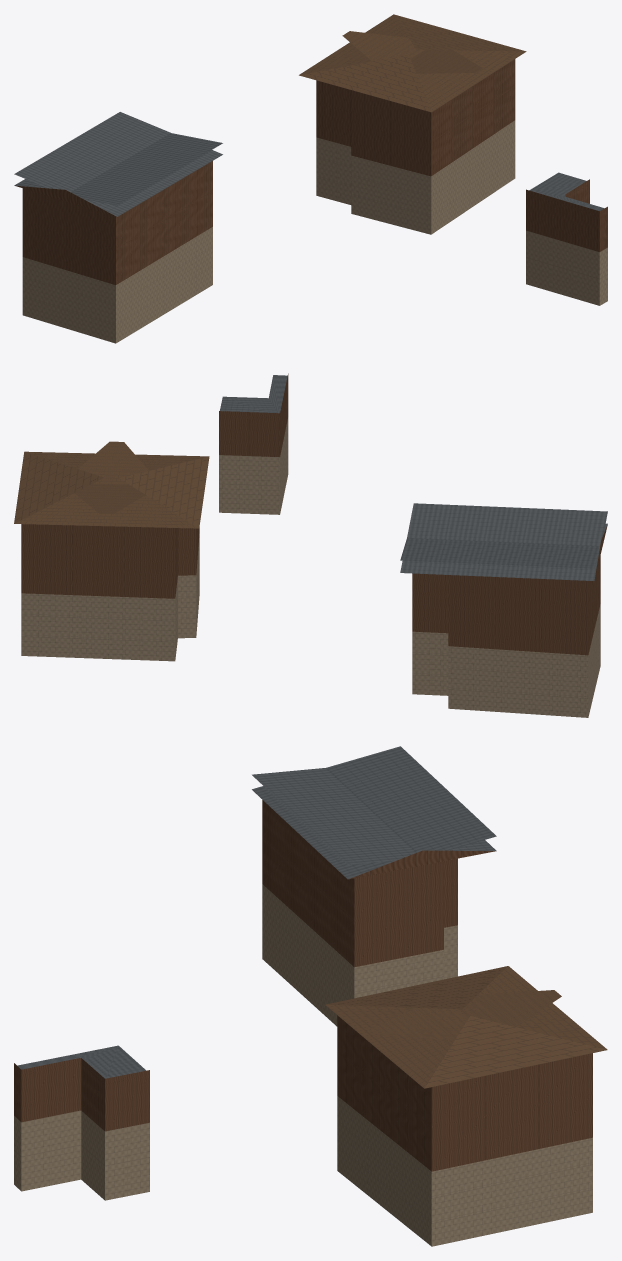
File: bld_c20_32_368.gltf
The picture shows the model from 3 angles, top to bottom: view 1: azimuth 30°, elevation 25°; view 2: azimuth 150°, elevation 25°; view 3: azimuth 270°, elevation 25°; orthographic projection. The views are drawn at different scales.
Visible parts, largest first — view 1: bld_c20_32_368; view 2: bld_c20_32_368; view 3: bld_c20_32_368.
Part boxes in pixels (x1=…): bld_c20_32_368: x1=14, y1=14, x2=607, y2=343; bld_c20_32_368: x1=14, y1=373, x2=607, y2=717; bld_c20_32_368: x1=14, y1=746, x2=607, y2=1246.
Size of the model in its own units: 47.77 by 12.4 by 36.58.
5 materials, 5 textured.
